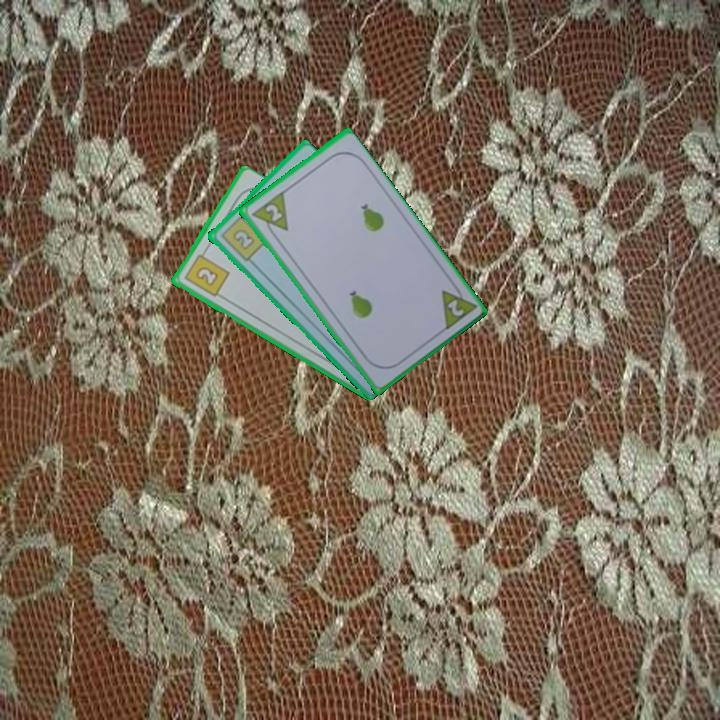2b: (217, 209, 269, 264), (180, 246, 232, 300)
2p: (437, 278, 478, 334), (261, 200, 285, 224)
